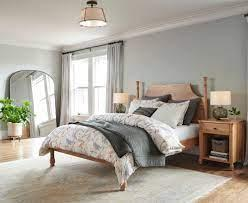bed: (47, 87, 206, 189)
light: (75, 0, 110, 33), (208, 88, 232, 121), (111, 93, 127, 113)
table: (197, 117, 243, 170)
